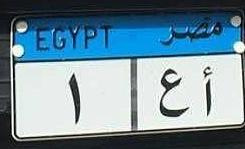1: (65, 73, 87, 127)
ain: (157, 68, 190, 121)
alif: (198, 64, 219, 119)
